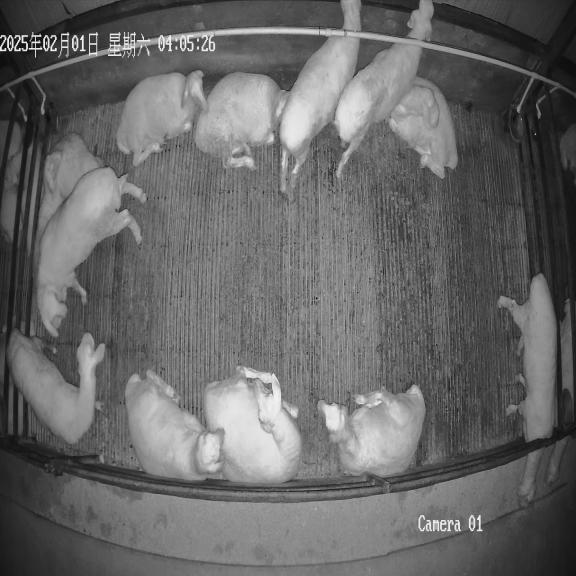eating: (497, 273, 557, 507)
lying: (203, 368, 302, 484), (125, 370, 225, 481), (317, 385, 425, 478), (194, 72, 289, 170), (116, 70, 207, 167), (389, 77, 457, 178), (47, 134, 103, 198), (36, 152, 64, 242)
stand: (35, 167, 142, 337), (332, 0, 434, 177), (279, 0, 361, 194), (6, 329, 105, 444)
